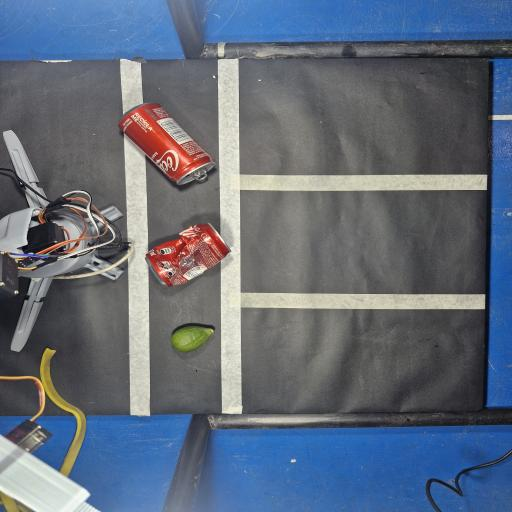higo: (171, 326, 214, 352)
lata: (119, 103, 215, 184)
lata_defectuoso: (146, 224, 230, 287)
